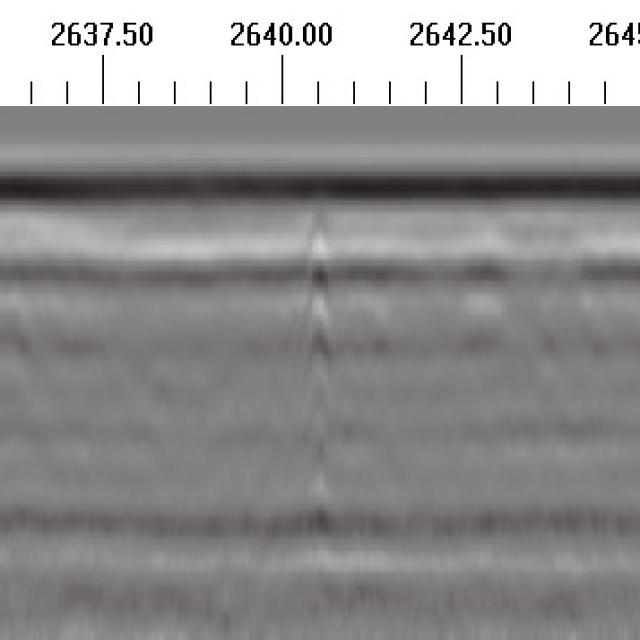crack: (304, 183, 333, 544)
